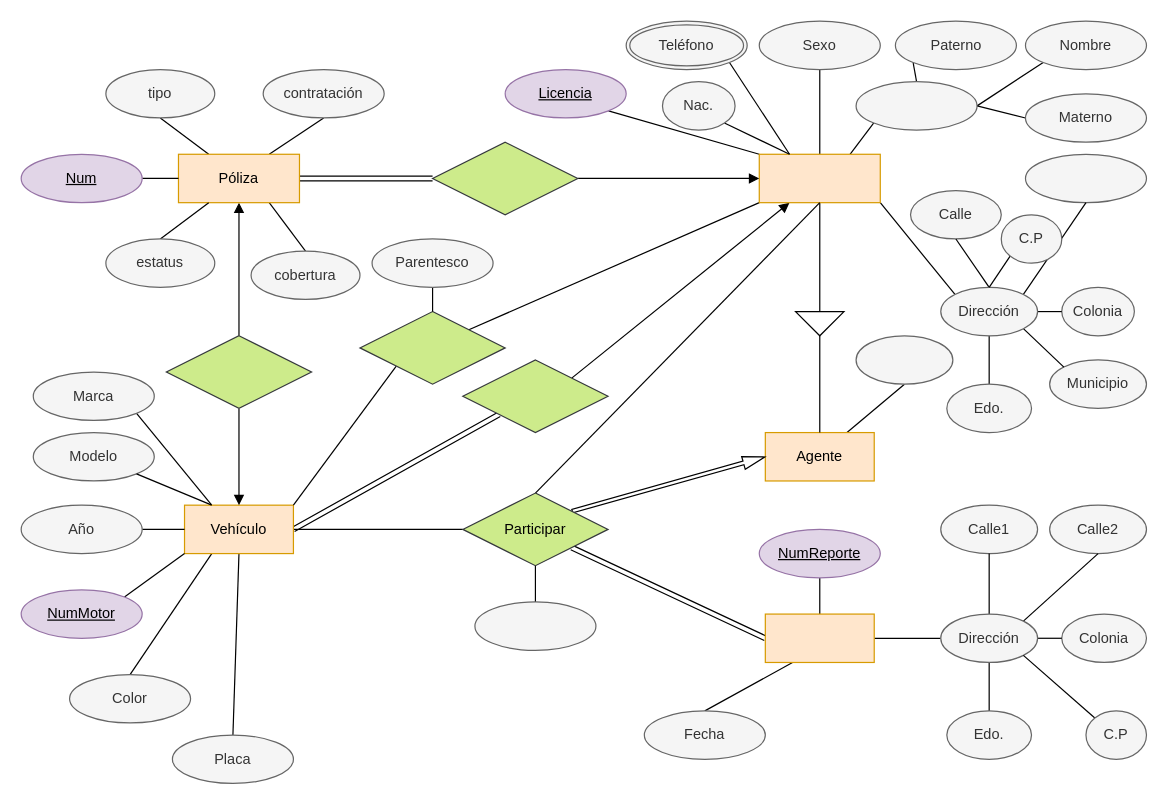
Some shapes in this 1168 by 805 pixel diagram are drawn without their labels. Each missing label, with the centre of its shape:
Accidente: the point at 819,637
Asignar: the point at 504,178
Cubrir: the point at 238,371
Manejar: the point at 432,347
MontoDaño: the point at 535,625
NombreC: the point at 916,105
NumAgente: the point at 904,359
NúmExt: the point at 1085,178
Persona: the point at 819,178
Poseer: the point at 535,396
